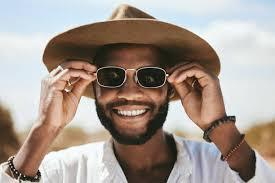cap: (27, 3, 228, 107)
sunglasses: (91, 65, 172, 96)
